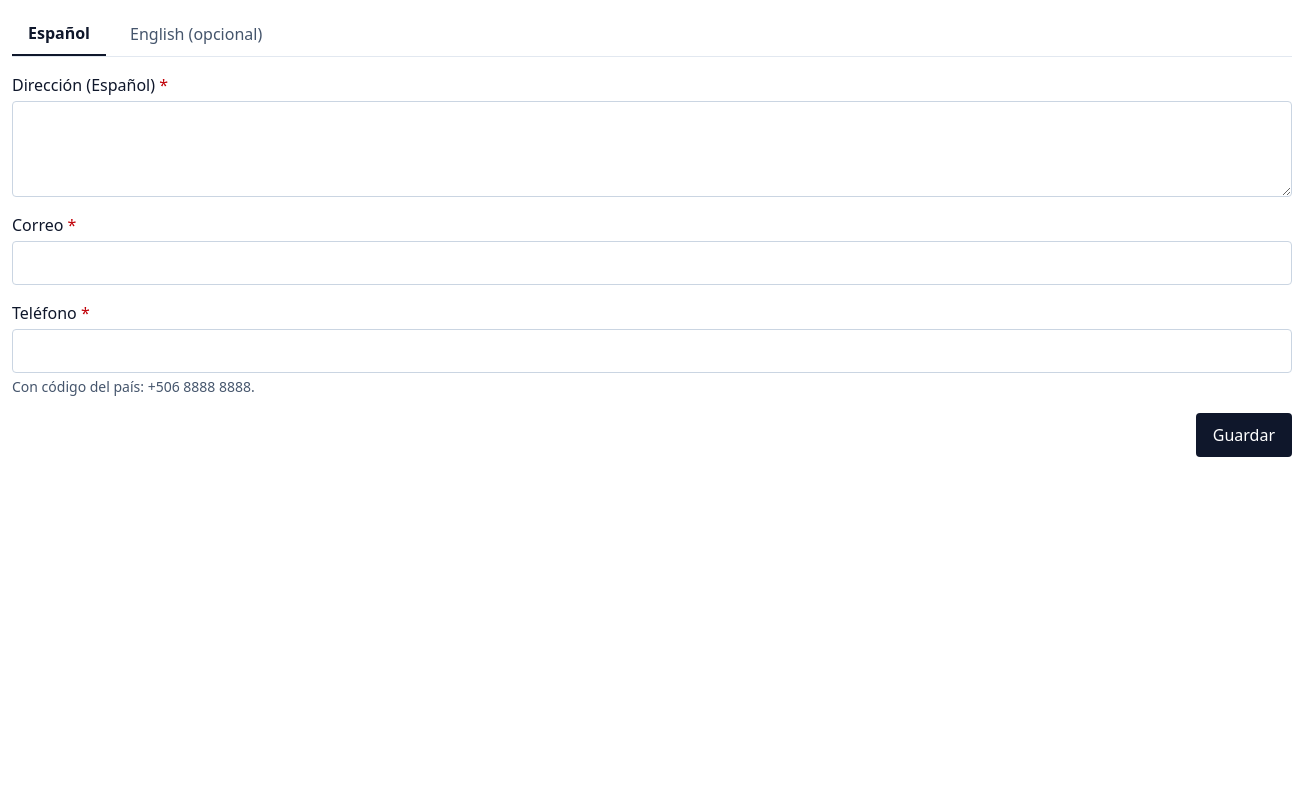
Test: ContactForm · contacto (FR-007) › guarda dirección/correo/teléfono y refresca la sección
This screenshot has width=1304, height=812.
Type "San José" into the text box labelled "Dirección (Español) *" at (652, 149), box [12,101,1292,197]
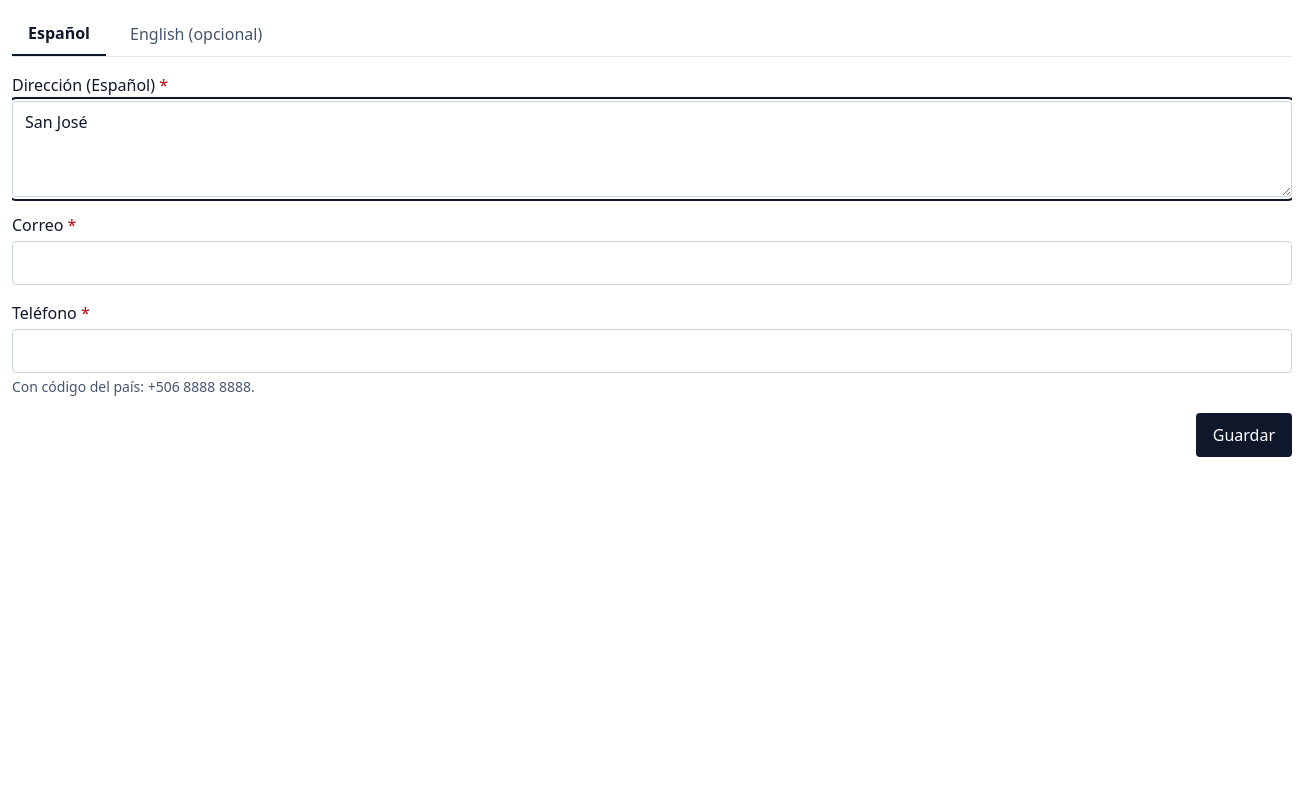
Type "hola@ejemplo.com" into the field labelled "Correo *" at (652, 263), box [12,241,1292,285]
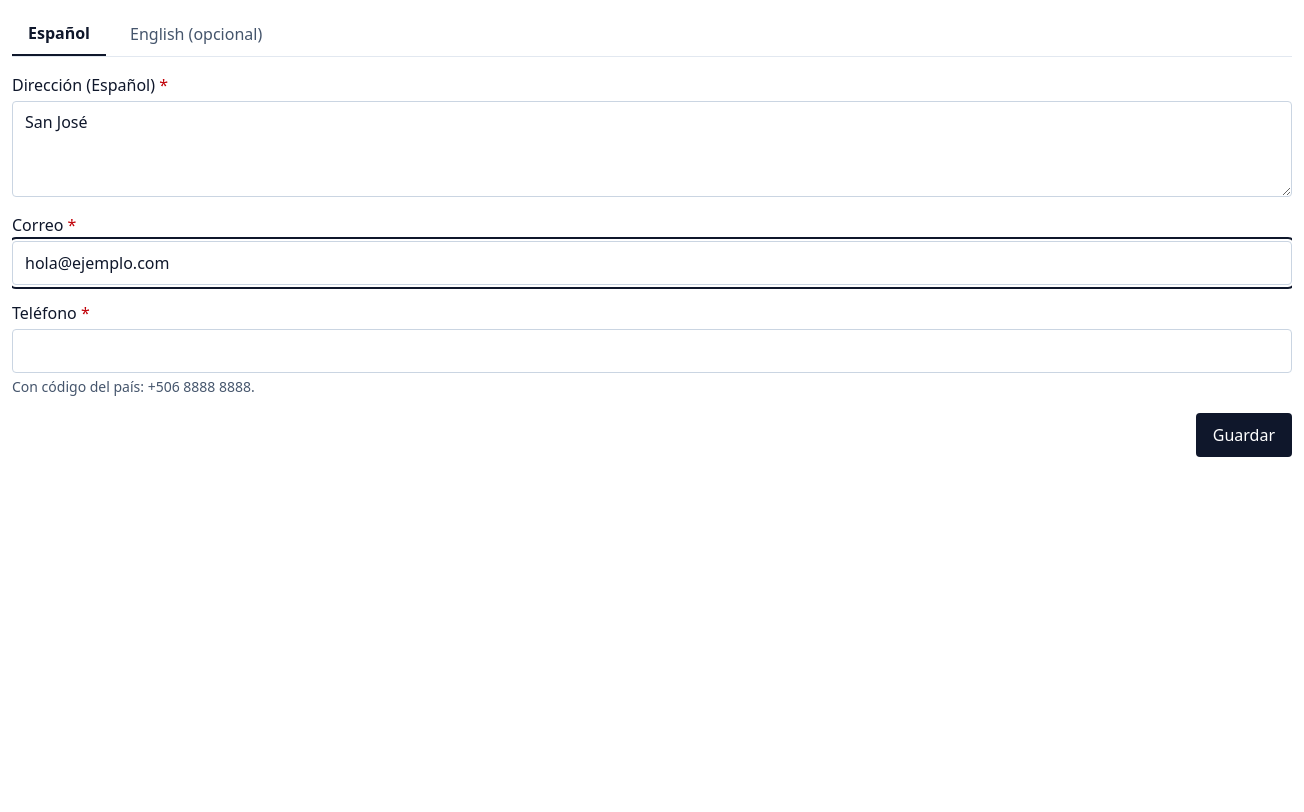
Type "+506 8888 8888" into the field labelled "Teléfono *" at (652, 351), box [12,329,1292,373]
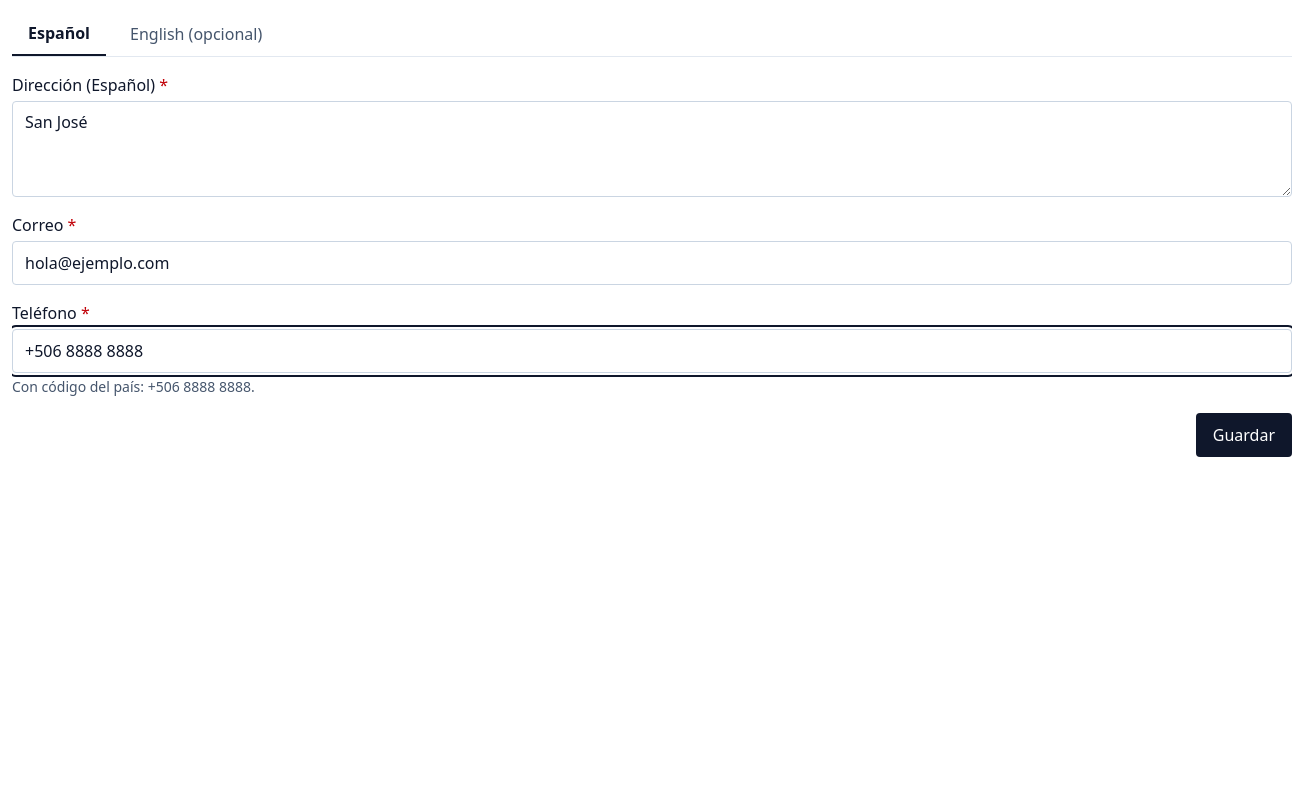
Click the button "Guardar" at (1244, 435), box [1196,413,1292,457]
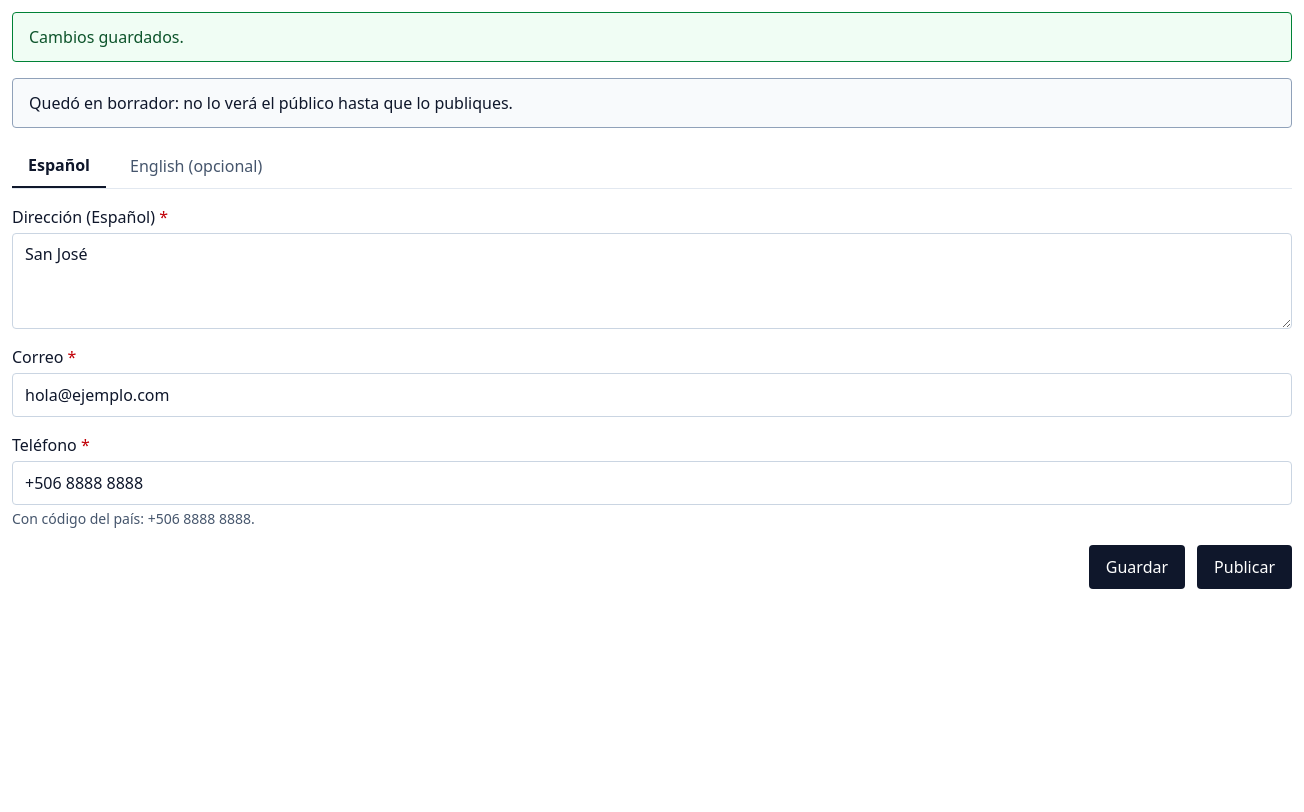
Expected: the text "Cambios guardados." is shown, [12,12,1292,62]
